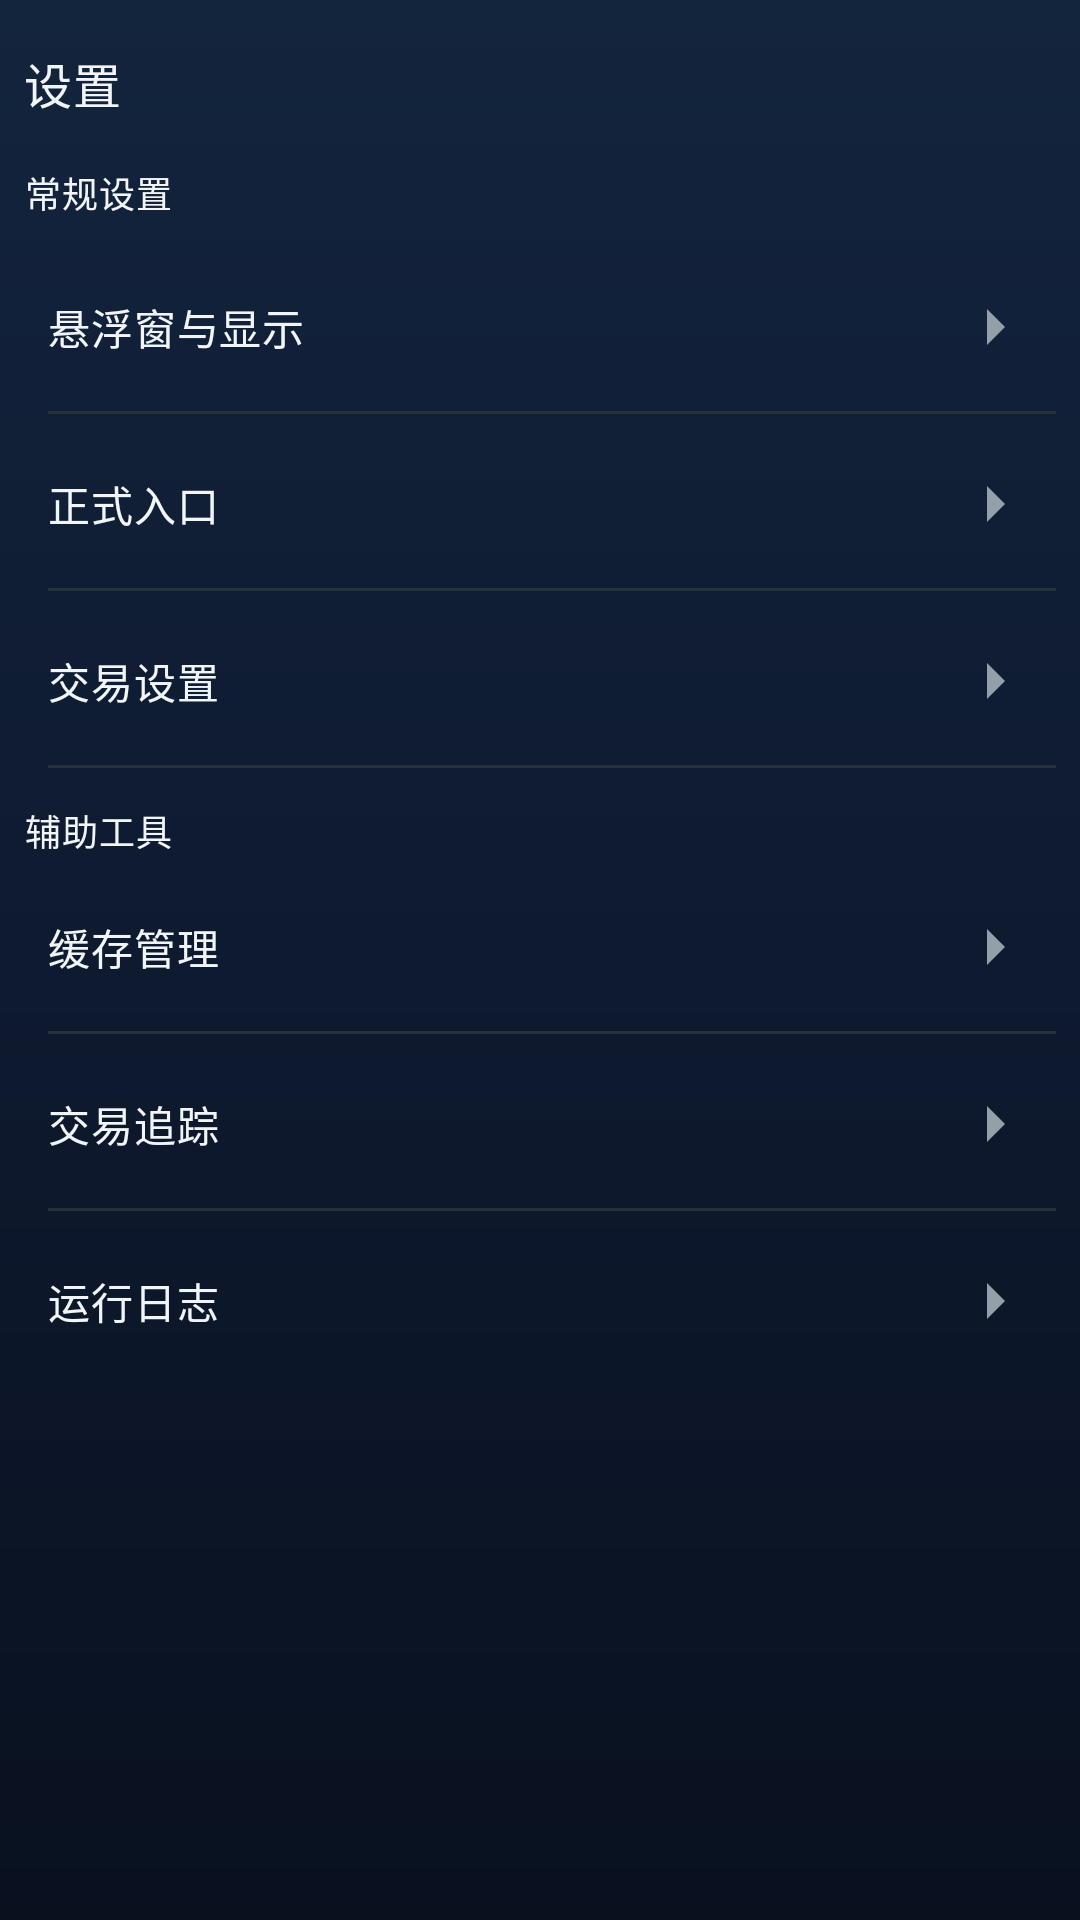

Screen size 1080*1920. Icon name, then its box in pixels as (x1, y1, x2, y2):
chevron right: (987, 309, 1005, 345), (987, 486, 1005, 522), (987, 663, 1005, 699), (987, 929, 1005, 965), (987, 1106, 1005, 1142), (987, 1283, 1005, 1319)
